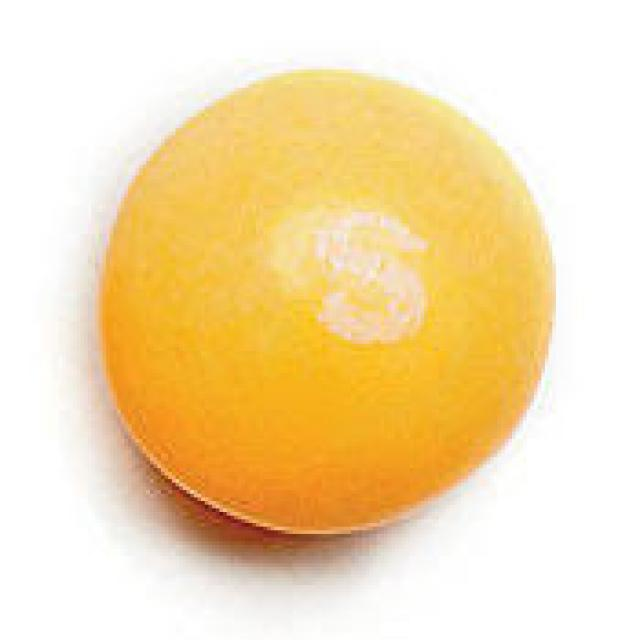smartie: (102, 73, 556, 534)
